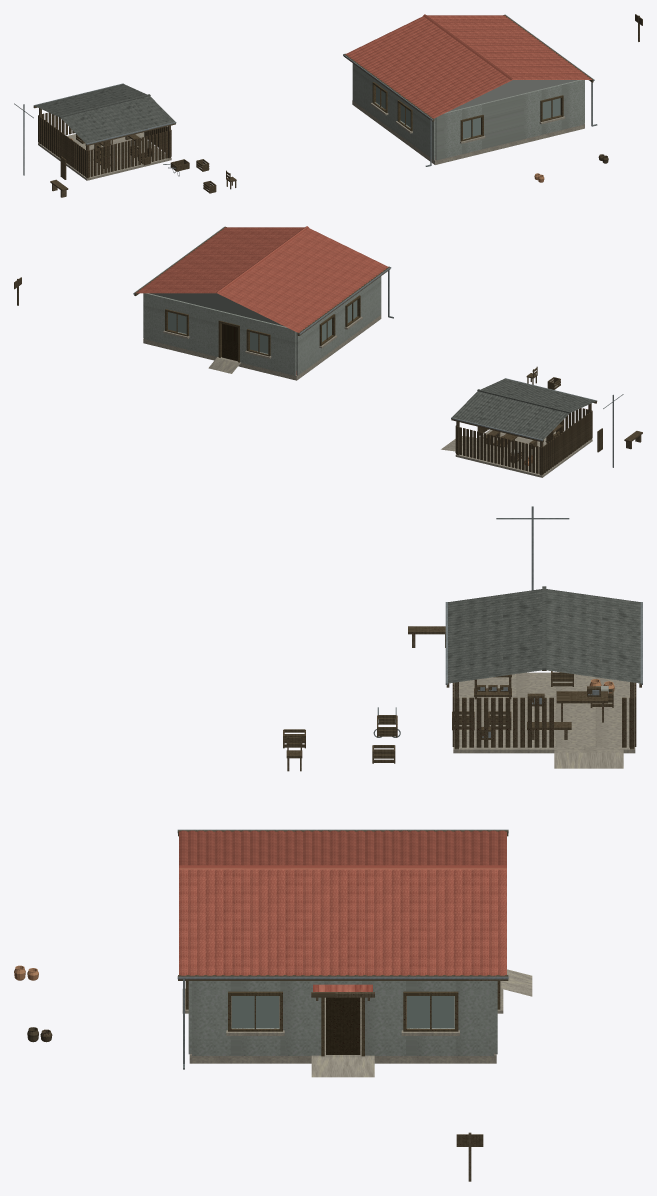
3 views of the same model, one above another, from view 1: azimuth 30°, elevation 25°; view 2: azimuth 150°, elevation 25°; view 3: azimuth 270°, elevation 25° (orthographic). The views are drawn at different scales.
Parts seen in each view (by area): view 1: H38_TELHAS, H38_LATERAIS, H38_OFICINA_COBERTURA, H38_OFICINA_RIPAS, H38_FUNDOS, H38_OFICINA_BASE, H38_OITOES, H38_FUNDACAO, H38_VIDROS_RECUADOS, H38_CAIXILHOS, H38_BEIRAIS, H38_CUMEEIRA (+3 smaller); view 2: H38_TELHAS, H38_LATERAIS, H38_OFICINA_COBERTURA, H38_OFICINA_RIPAS, H38_FUNDOS, H38_OFICINA_BASE, H38_OITOES, H38_FUNDACAO, H38_VIDROS_RECUADOS, H38_CAIXILHOS, H38_SERVICO_PORTA_FOLHA, H38_BEIRAIS (+1 smaller); view 3: H38_TELHAS, H38_OFICINA_COBERTURA, H38_FACHADA, H38_OFICINA_BASE, H38_OFICINA_RIPAS, H38_VIDROS_RECUADOS, H38_FUNDACAO, H38_PORTA_FOLHA, H38_CALHA, H38_BEIRAIS, H38_CAIXILHOS, H38_CUMEEIRA (+2 smaller).
Boxes of the visible parts, bbox=[...] form: H38_TELHAS: bbox=[346, 15, 591, 118]; H38_LATERAIS: bbox=[435, 80, 584, 160]; H38_OFICINA_COBERTURA: bbox=[34, 84, 175, 143]; H38_OFICINA_RIPAS: bbox=[38, 112, 171, 177]; H38_FUNDOS: bbox=[352, 63, 435, 160]; H38_OFICINA_BASE: bbox=[38, 134, 171, 180]; H38_OITOES: bbox=[448, 80, 577, 111]; H38_FUNDACAO: bbox=[352, 100, 584, 164]; H38_VIDROS_RECUADOS: bbox=[376, 86, 560, 138]; H38_CAIXILHOS: bbox=[372, 82, 563, 141]; H38_BEIRAIS: bbox=[343, 14, 593, 121]; H38_CUMEEIRA: bbox=[423, 14, 513, 80]; H38_TELHAS: bbox=[136, 227, 388, 332]; H38_LATERAIS: bbox=[144, 293, 296, 375]; H38_OFICINA_COBERTURA: bbox=[452, 378, 596, 439]; H38_OFICINA_RIPAS: bbox=[455, 408, 592, 474]; H38_FUNDOS: bbox=[296, 276, 381, 375]; H38_OFICINA_BASE: bbox=[455, 429, 592, 477]; H38_OITOES: bbox=[149, 293, 284, 326]; H38_FUNDACAO: bbox=[143, 315, 381, 380]; H38_VIDROS_RECUADOS: bbox=[168, 300, 357, 353]; H38_CAIXILHOS: bbox=[165, 295, 360, 356]; H38_SERVICO_PORTA_FOLHA: bbox=[222, 324, 237, 361]; H38_BEIRAIS: bbox=[134, 226, 390, 335]; H38_TELHAS: bbox=[179, 830, 506, 975]; H38_OFICINA_COBERTURA: bbox=[448, 589, 640, 683]; H38_FACHADA: bbox=[192, 981, 494, 1055]; H38_OFICINA_BASE: bbox=[453, 672, 635, 753]; H38_OFICINA_RIPAS: bbox=[452, 670, 636, 747]; H38_VIDROS_RECUADOS: bbox=[231, 996, 454, 1027]; H38_FUNDACAO: bbox=[189, 996, 496, 1063]; H38_PORTA_FOLHA: bbox=[326, 997, 360, 1054]; H38_CALHA: bbox=[177, 829, 508, 979]; H38_BEIRAIS: bbox=[178, 830, 508, 980]; H38_CAIXILHOS: bbox=[185, 981, 500, 1031]; H38_CUMEEIRA: bbox=[179, 865, 506, 869].
Bounding box in the file's own units: 38.87 × 4.4 × 19.01.
Materials: 13 (9 with a texture image).
